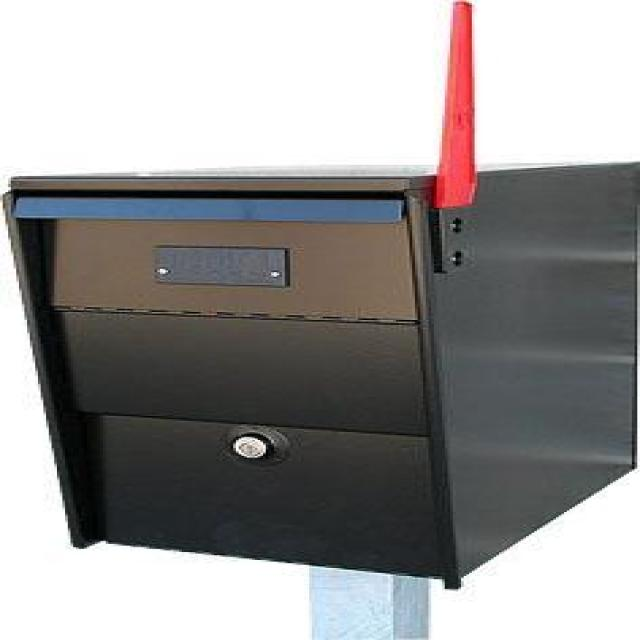Post Box: (0, 157, 640, 592)
